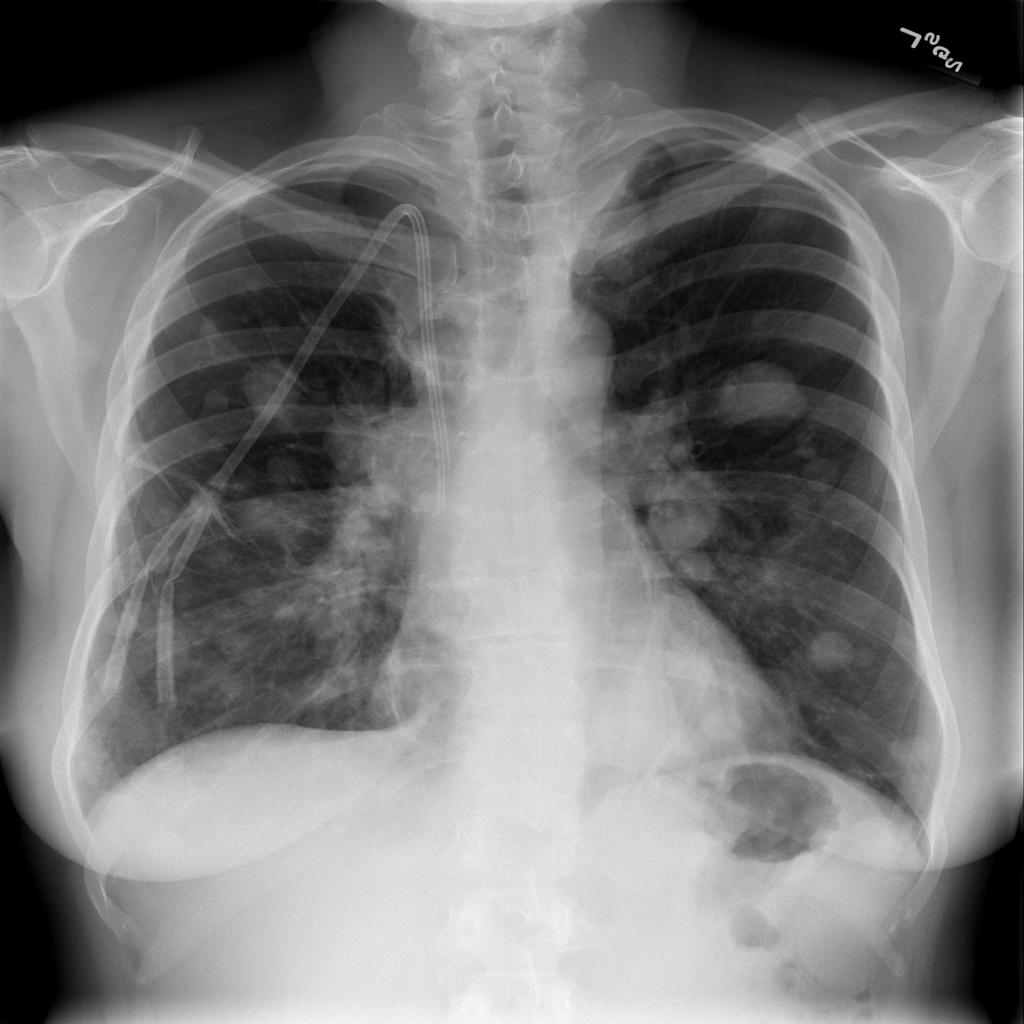nodule: (582, 661, 697, 783), (700, 344, 822, 450), (634, 454, 740, 570), (237, 346, 316, 425), (230, 480, 318, 549), (241, 439, 325, 503), (794, 618, 871, 686), (785, 437, 859, 506), (874, 719, 951, 785), (686, 688, 763, 750), (191, 301, 244, 350), (193, 371, 248, 418)
